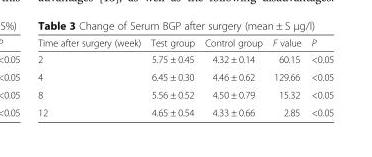table: (37, 36, 333, 117)
table column: (37, 36, 145, 117), (199, 36, 266, 117), (145, 36, 199, 117), (266, 36, 305, 117), (305, 36, 333, 117)
table column header: (37, 36, 333, 50)
table row: (37, 67, 333, 85), (37, 85, 333, 103), (37, 50, 333, 67), (37, 36, 333, 50), (37, 103, 333, 117)
